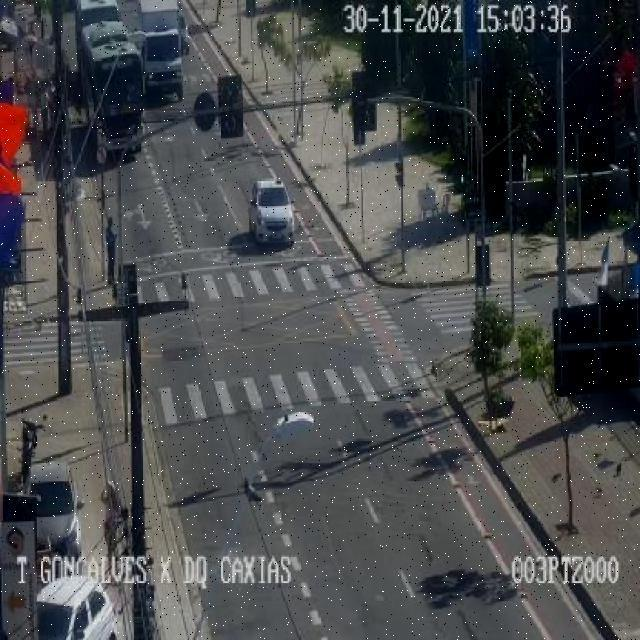Bus: (78, 20, 144, 160)
Car: (22, 460, 81, 558), (35, 576, 119, 638), (248, 179, 295, 245)
Truck: (134, 0, 188, 105)
